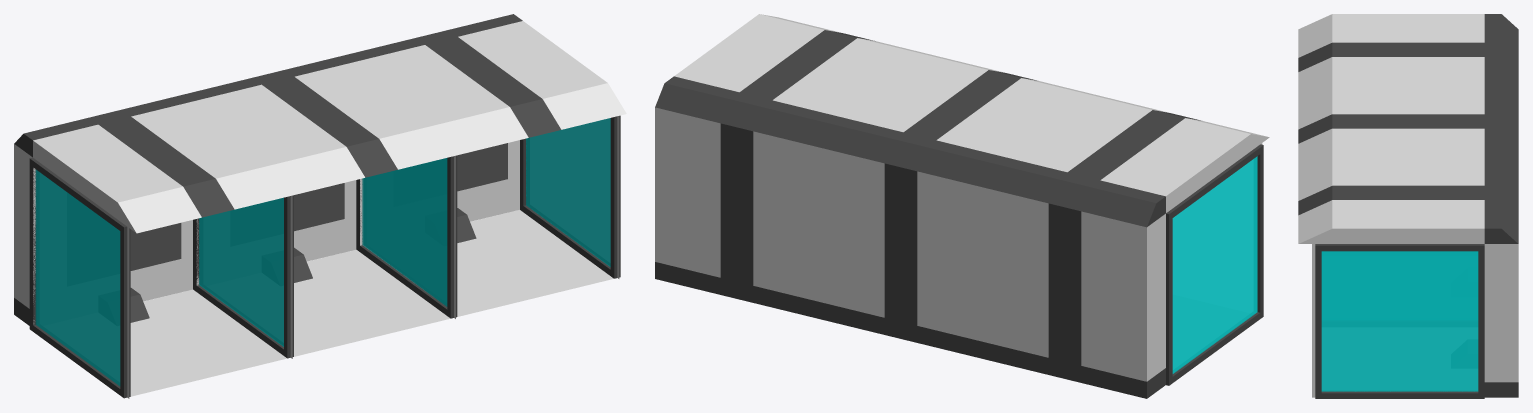
File: VRBoothImproved4.fbx
3 views of the same model, side by side, from view 1: azimuth 30°, elevation 25°; view 2: azimuth 150°, elevation 25°; view 3: azimuth 270°, elevation 25° (orthographic). The views are drawn at different scales.
Parts seen in each view (by area): view 1: Cube, Plane.001, Plane.002, Plane; view 2: Cube; view 3: Cube.
Part boxes in pixels (<box>): Cube: <box>14,14,626,398</box>; Plane.001: <box>130,223,181,270</box>; Plane.002: <box>457,143,507,191</box>; Plane: <box>294,183,344,231</box>; Cube: <box>655,14,1269,398</box>; Cube: <box>1298,14,1518,398</box>.
Size of the model in its own units: 3040 by 1100 by 1300.
